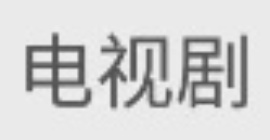TextView: (1, 1, 269, 139)
